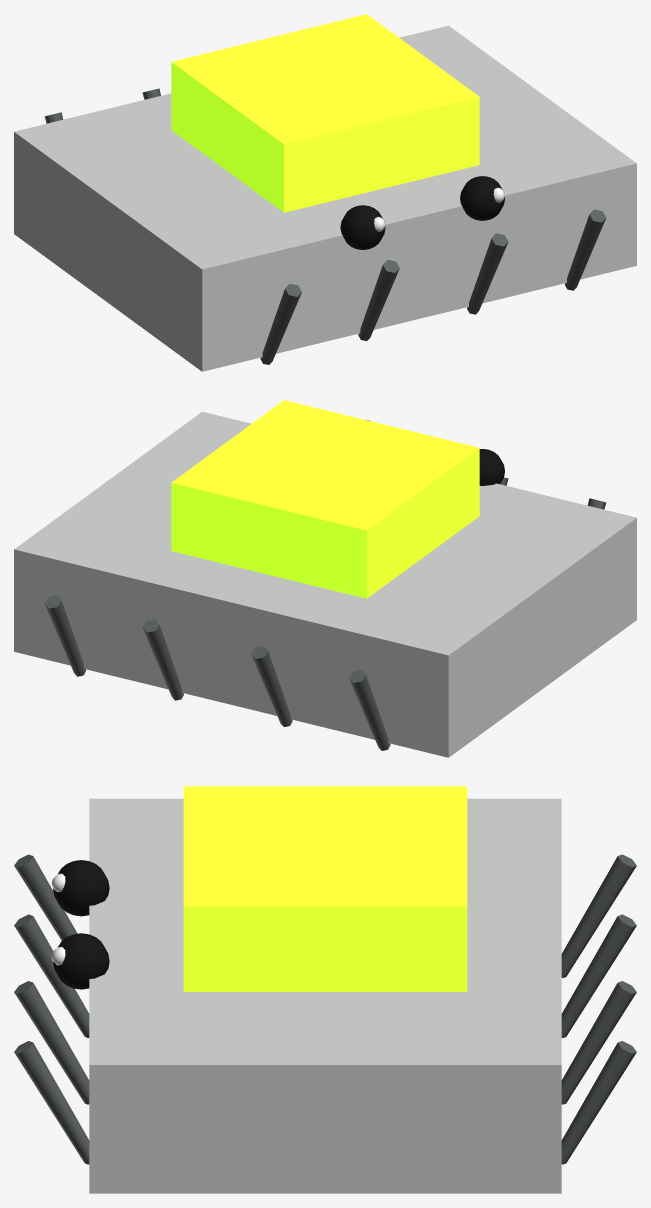
File: mcu.glb
3 views of the same model, one above another, from view 1: azimuth 30°, elevation 25°; view 2: azimuth 150°, elevation 25°; view 3: azimuth 270°, elevation 25° (orthographic). The views are drawn at different scales.
Bounding box in the file's own units: 4 × 1.57 × 3.95.
